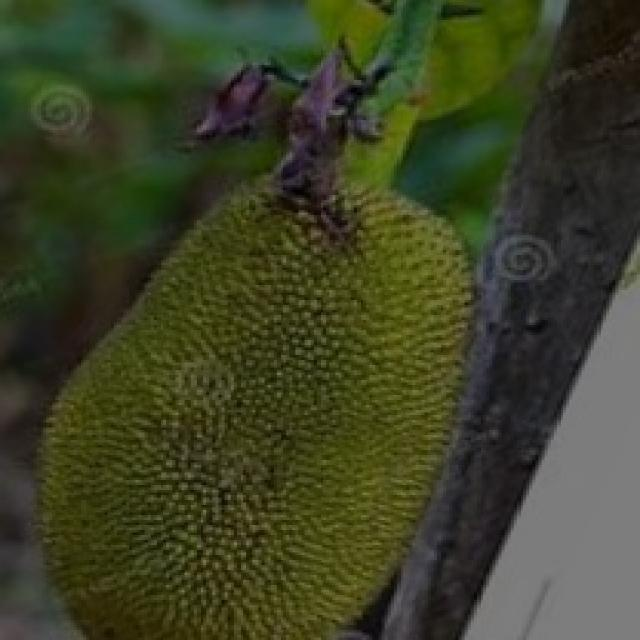Fruit: (184, 232, 542, 640), (0, 287, 360, 640)
